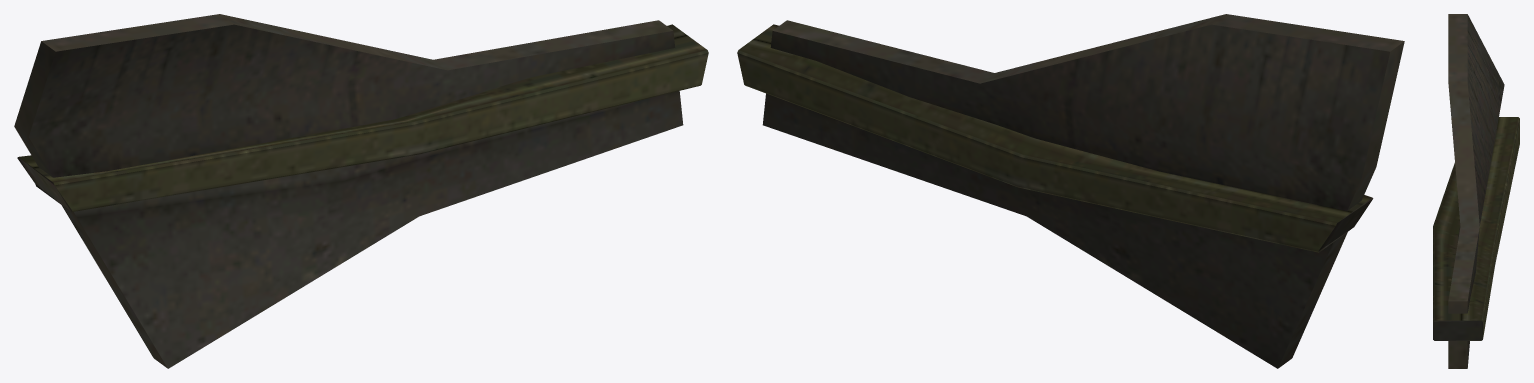
The model's file is slidedoor_data_tunnel_damaged_03_06.DAE.
3 renders of one model, left to right at view 1: azimuth 30°, elevation 25°; view 2: azimuth 150°, elevation 25°; view 3: azimuth 270°, elevation 25°, orthographic. The views are drawn at different scales.
Parts seen in each view (by area): view 1: slidedoor_data_tunnel_damaged_03_06; view 2: slidedoor_data_tunnel_damaged_03_06; view 3: slidedoor_data_tunnel_damaged_03_06.
Part boxes in pixels (<box>): slidedoor_data_tunnel_damaged_03_06: <box>14,14,708,368</box>; slidedoor_data_tunnel_damaged_03_06: <box>737,14,1404,368</box>; slidedoor_data_tunnel_damaged_03_06: <box>1433,14,1519,368</box>.
Bounding box in the file's own units: 3.45 × 0.6067 × 1.77.
